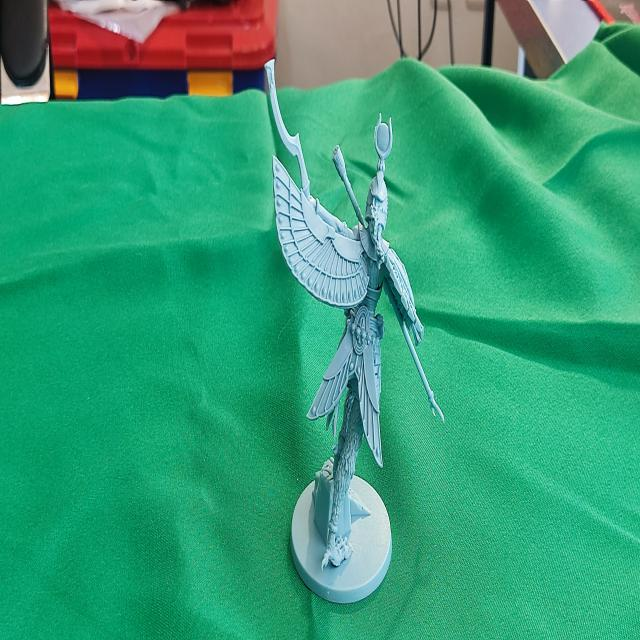isis: (257, 38, 452, 617)
